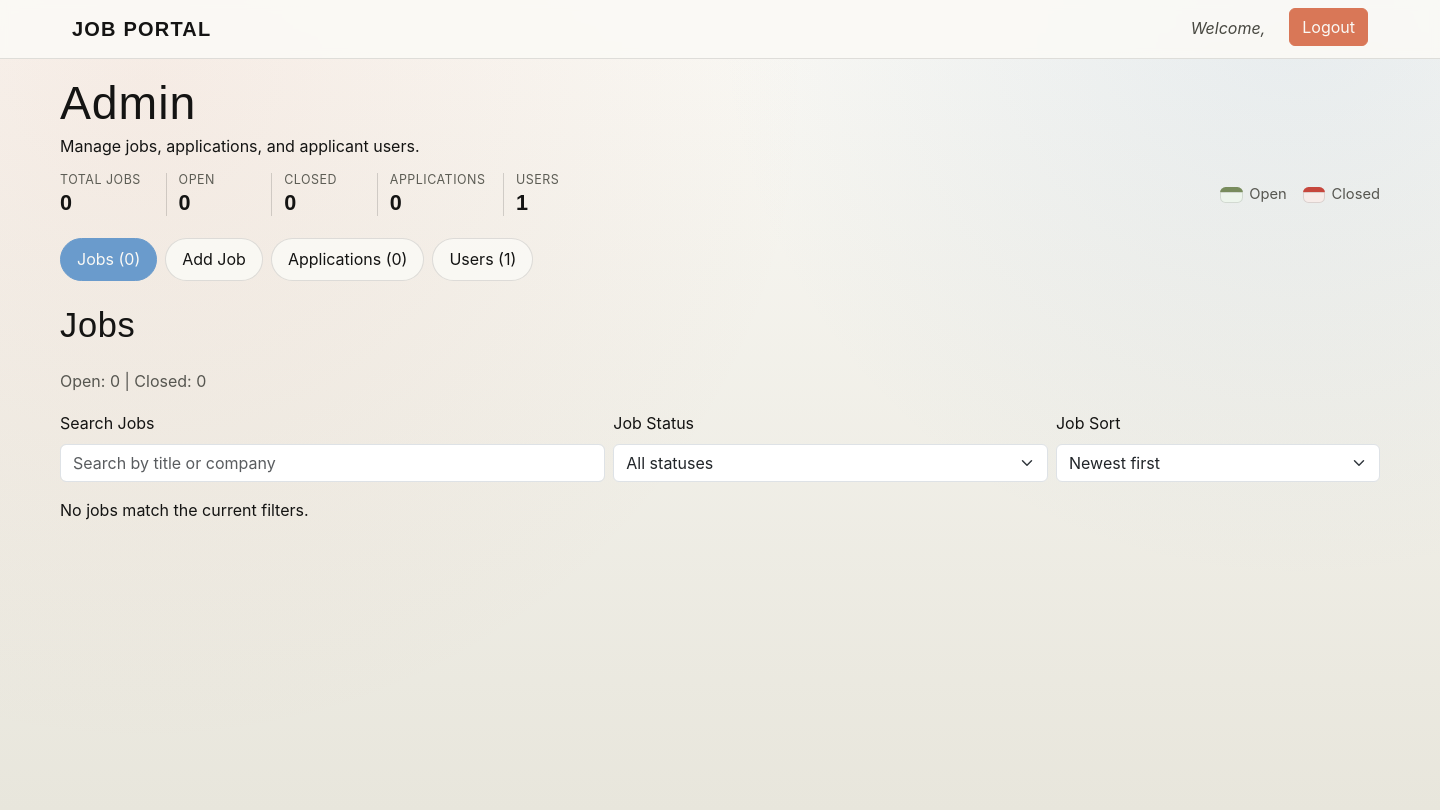
Test: AdminDashboard › should not disable applicant users when confirmation is canceled
Click the tab "Users (1)": {"x": 483, "y": 260} [432,238,533,281]
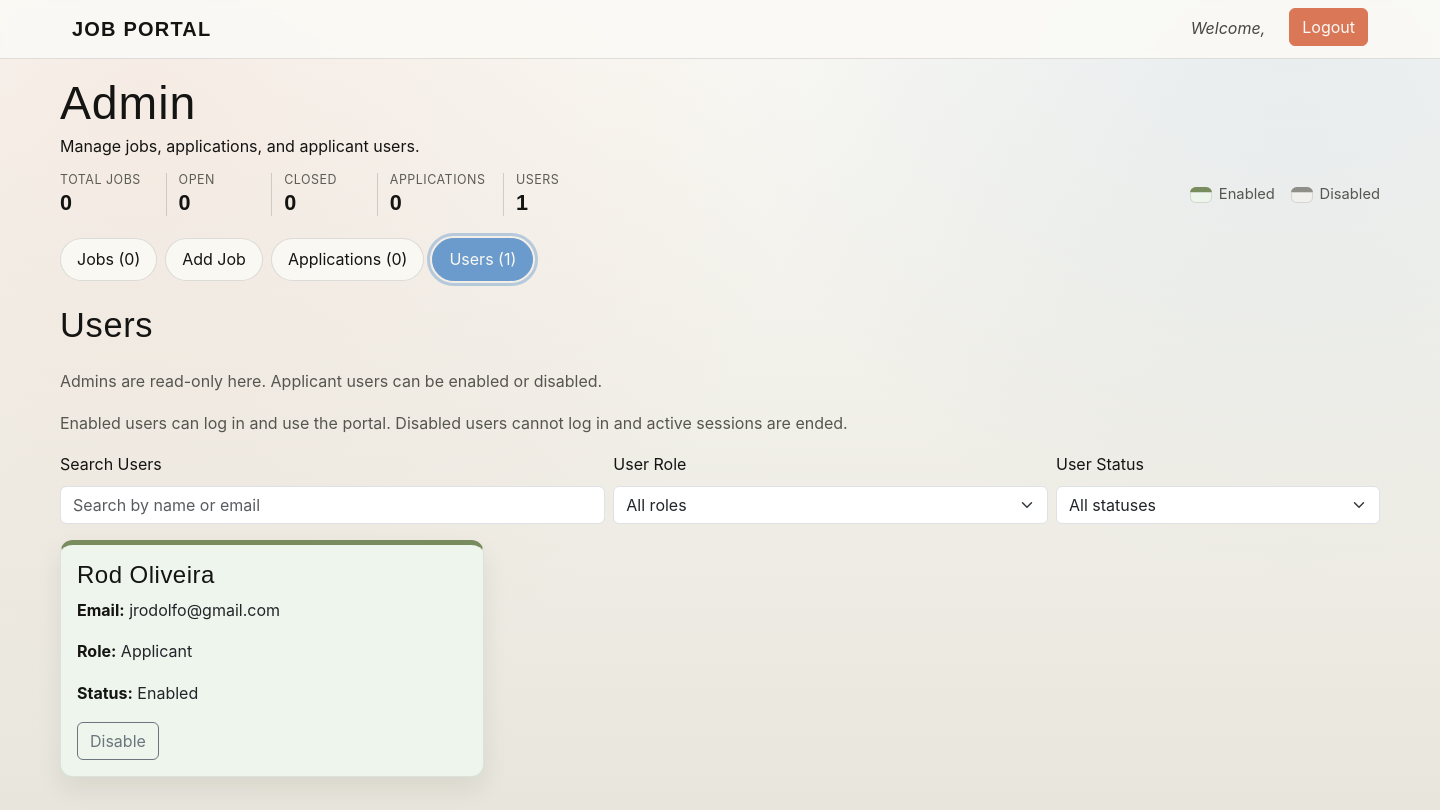
Click the button "Disable": {"x": 118, "y": 741} [77,722,159,760]
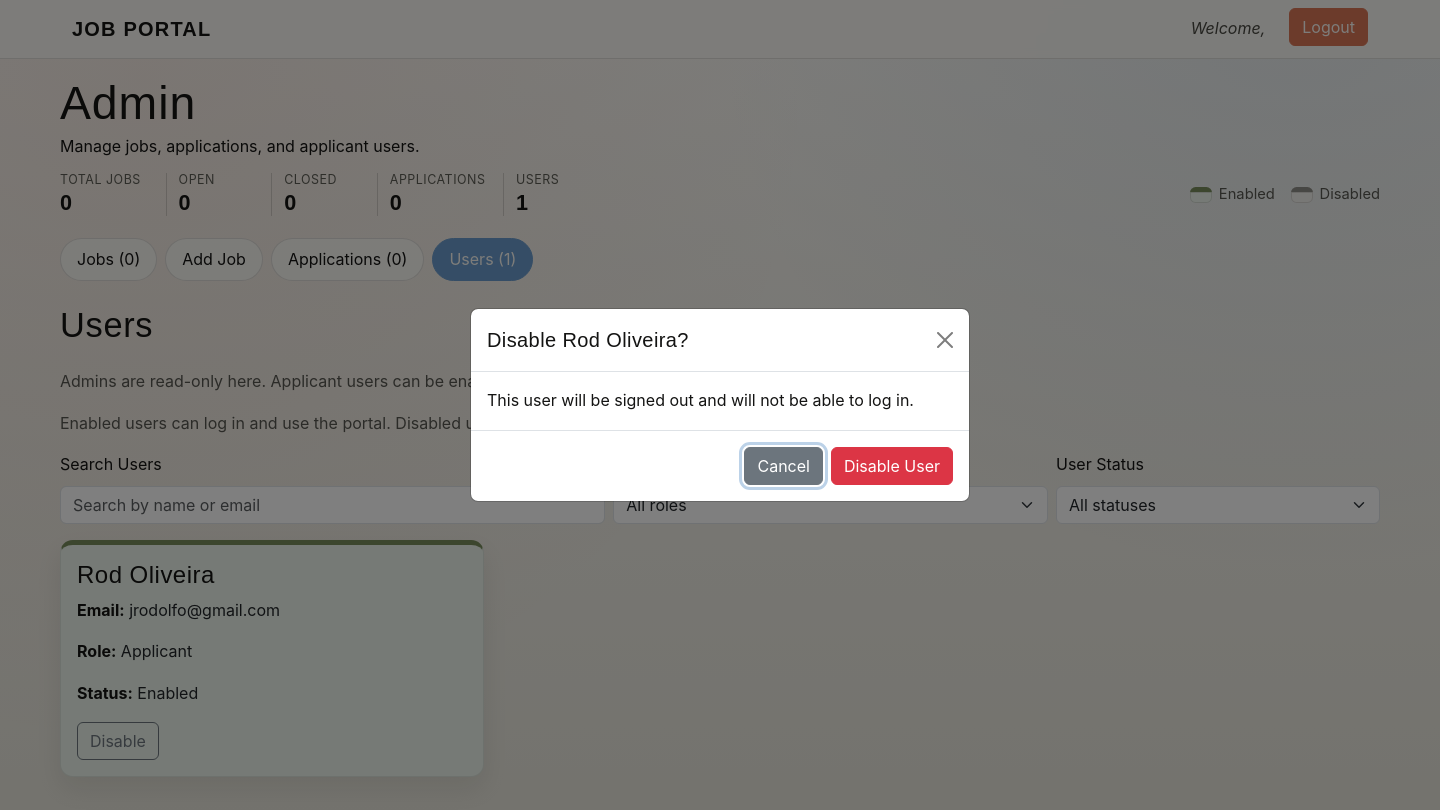
Expected: the text "This user will be signed out and will not be able to log in." is shown, [487,388,953,414]
Click the button "Cancel": {"x": 784, "y": 466} [744,447,823,485]
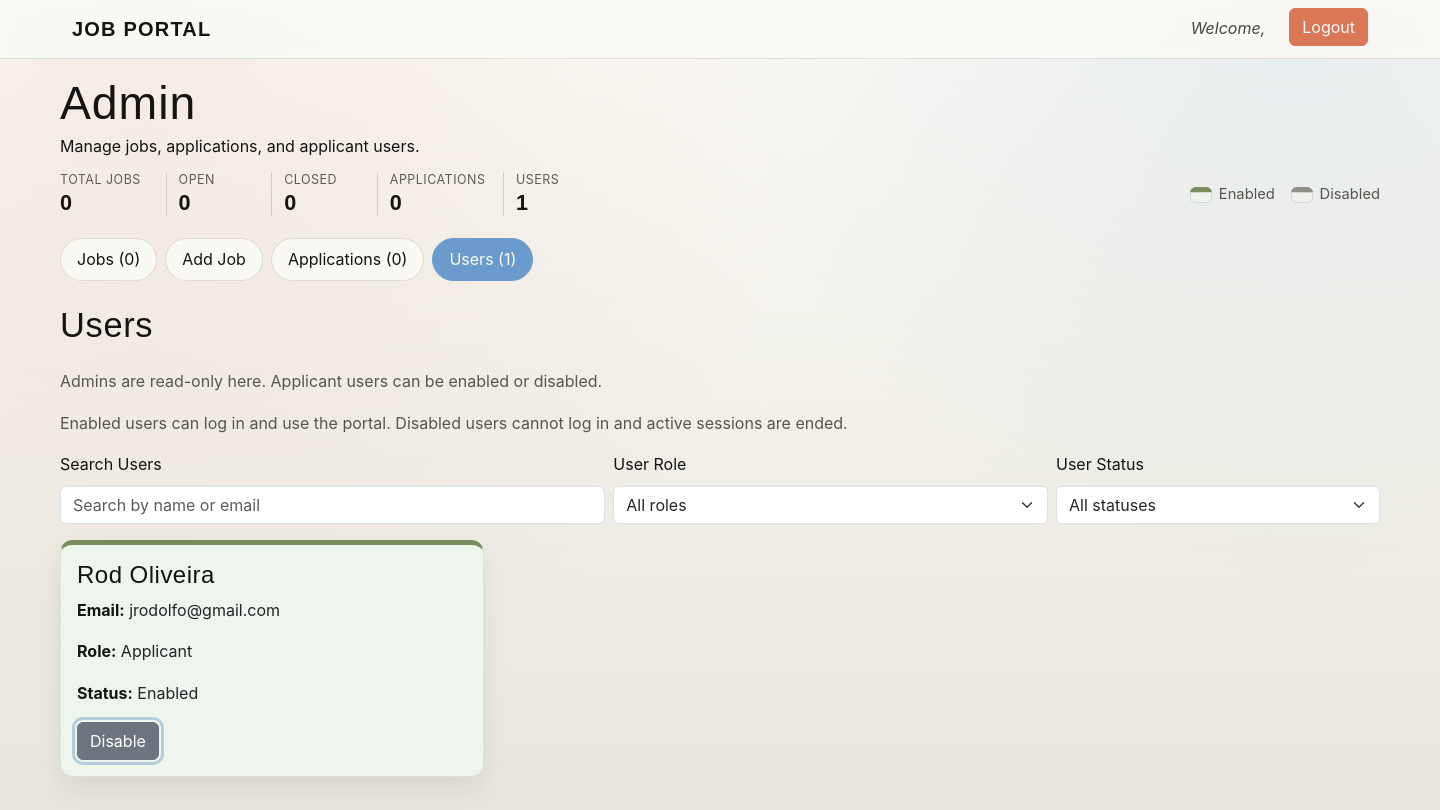
Expected: the heading "Disable Rod Oliveira?" is gone
